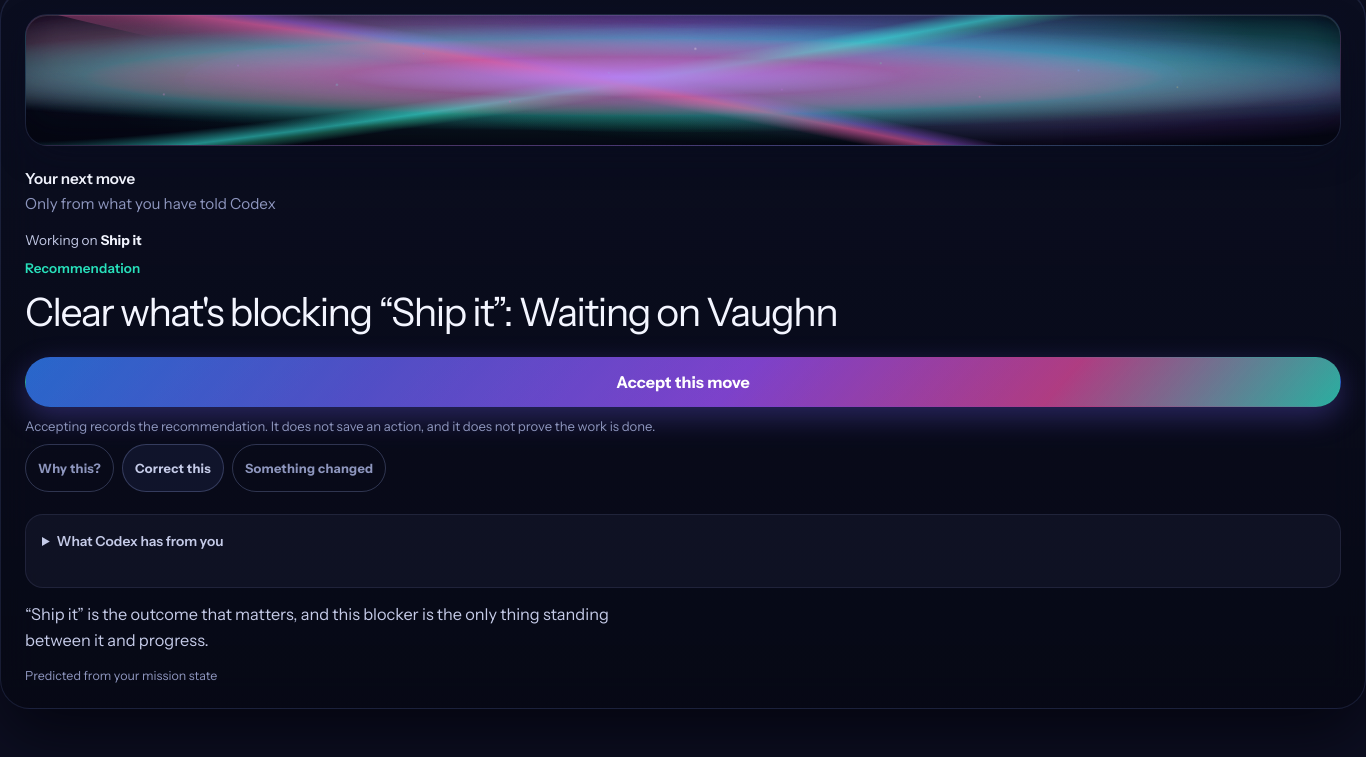
Test case: StrategicDelta › shows structured provenance and the inhibited alternatives behind Why?
The width and height of the screenshot is (1366, 757).
Click the button "Why this?": (70, 468) [25,444,114,492]
(page scrolled)
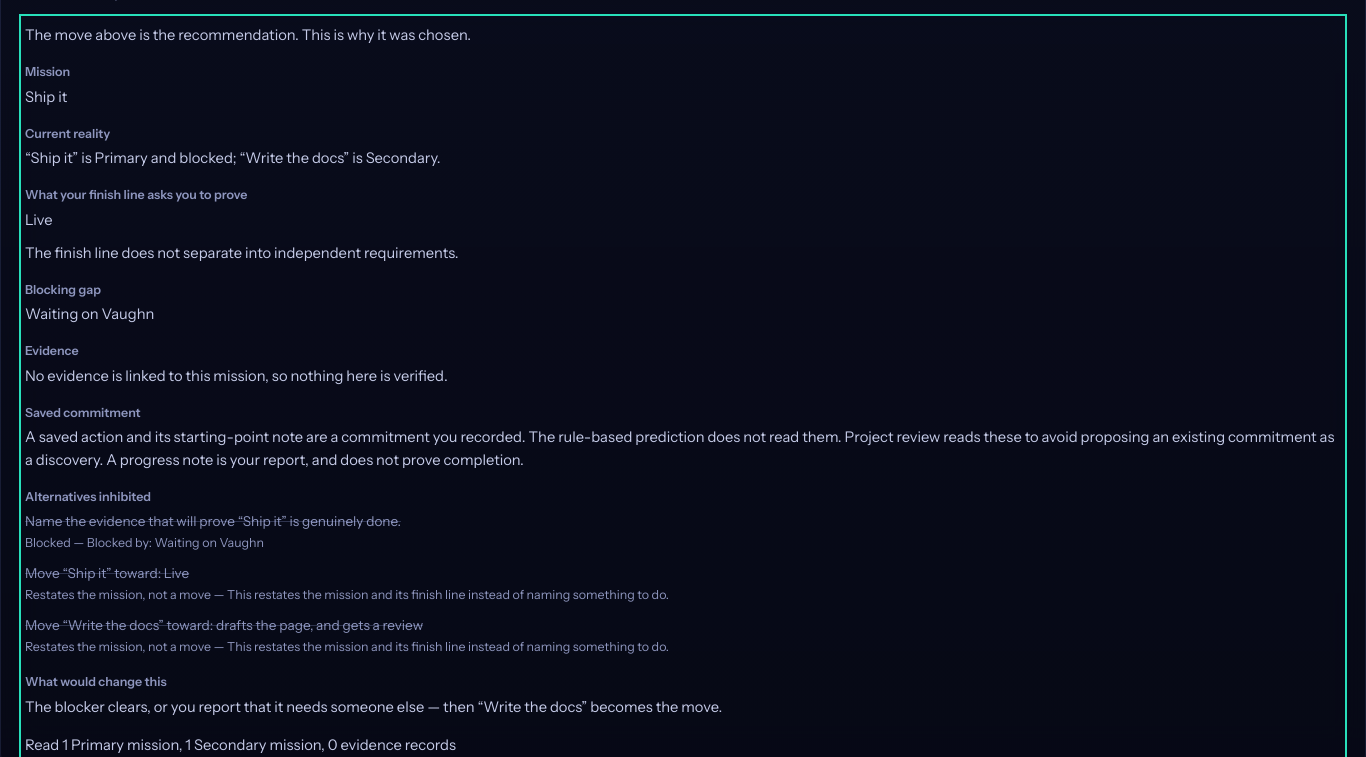
expect the heading "Current reality" is shown: met, box [25,126,110,141]
expect the heading "Blocking gap" is shown: met, box [25,282,101,296]
expect the heading "Alternatives inhibited" is shown: met, box [25,489,151,504]
